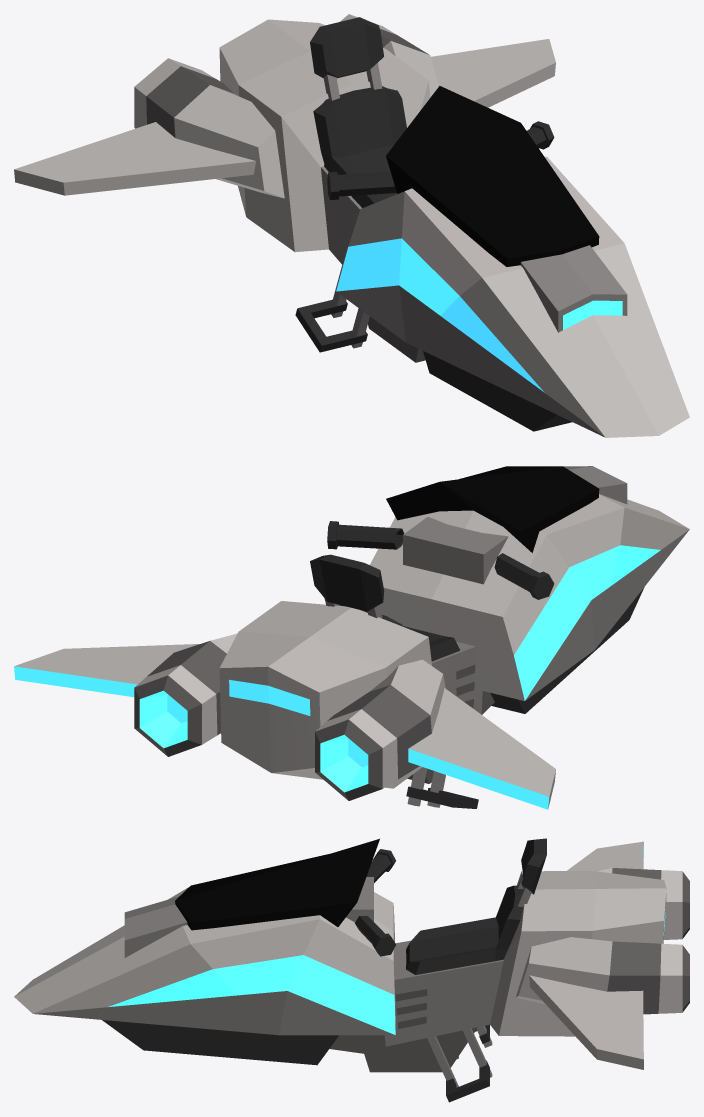
Rendered from scifi_scifi-hooverbike.fbx.
3 views of the same model, one above another, from view 1: azimuth 30°, elevation 25°; view 2: azimuth 150°, elevation 25°; view 3: azimuth 270°, elevation 25° (orthographic). The views are drawn at different scales.
Visible parts, largest first — view 1: scifi_scifi_hooverbike; view 2: scifi_scifi_hooverbike; view 3: scifi_scifi_hooverbike.
Part boxes in pixels (box(x1,y1,x2,y2)): scifi_scifi_hooverbike: box(14, 14, 689, 437); scifi_scifi_hooverbike: box(14, 466, 689, 809); scifi_scifi_hooverbike: box(14, 838, 689, 1102).
Size of the model in its own units: 153 by 77.32 by 200.
6 materials, 1 textured.
